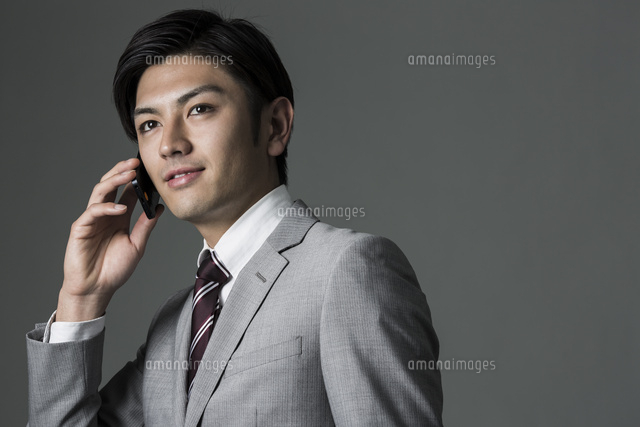phone: (91, 143, 165, 235)
talk: (58, 82, 242, 299)
